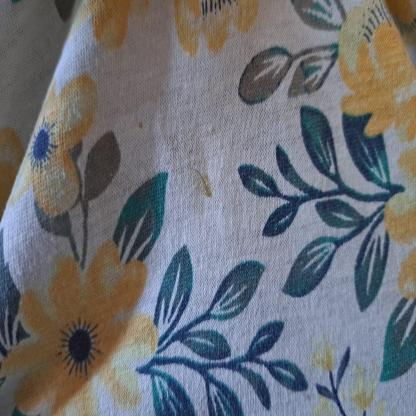spot: (162, 92, 214, 202), (135, 110, 148, 133)
